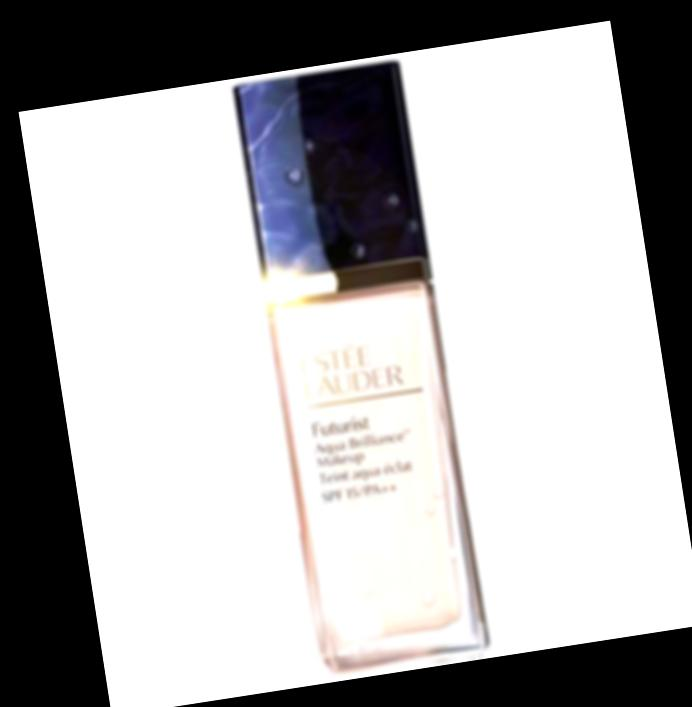cosmetic: (230, 57, 494, 680)
